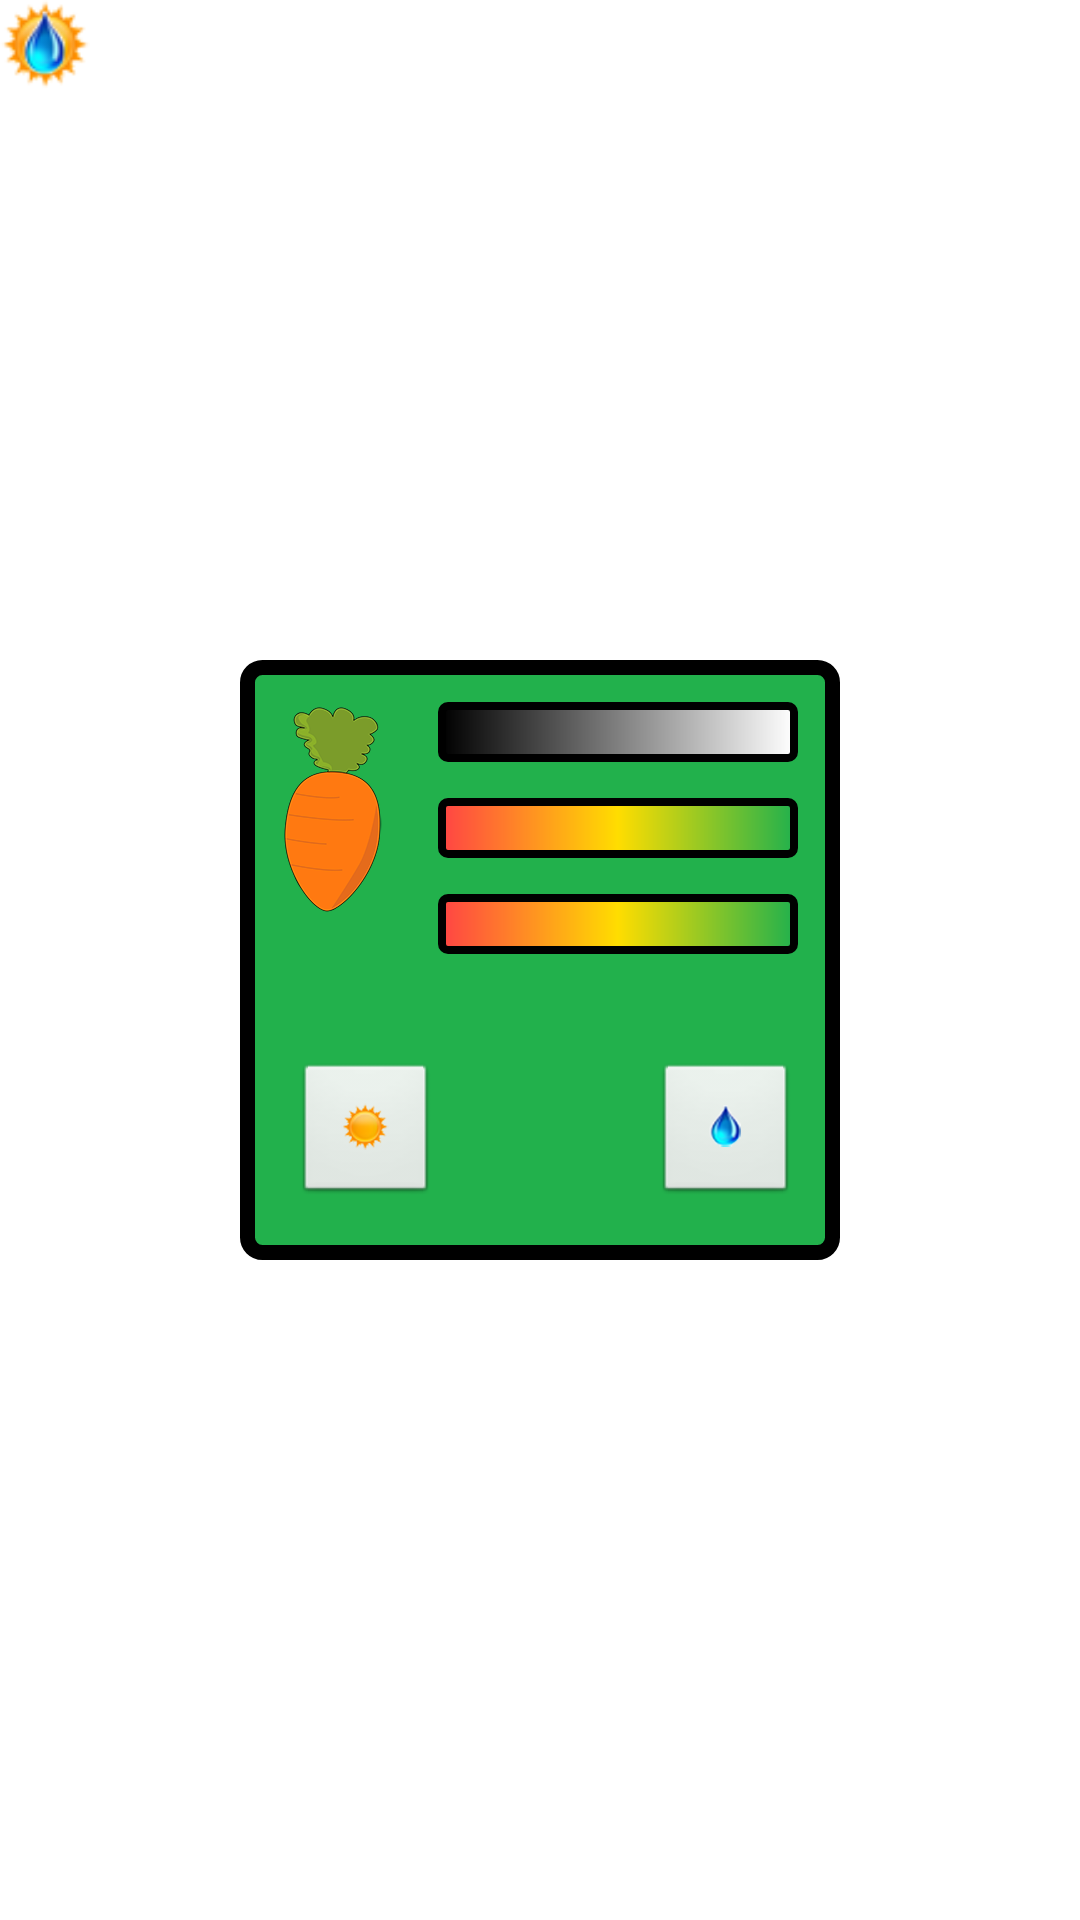

Point at icon controls on the screen. Image size 1080×1920, points as (x=x, y=y).
carrot: (x=332, y=809)
water: (x=725, y=1128)
